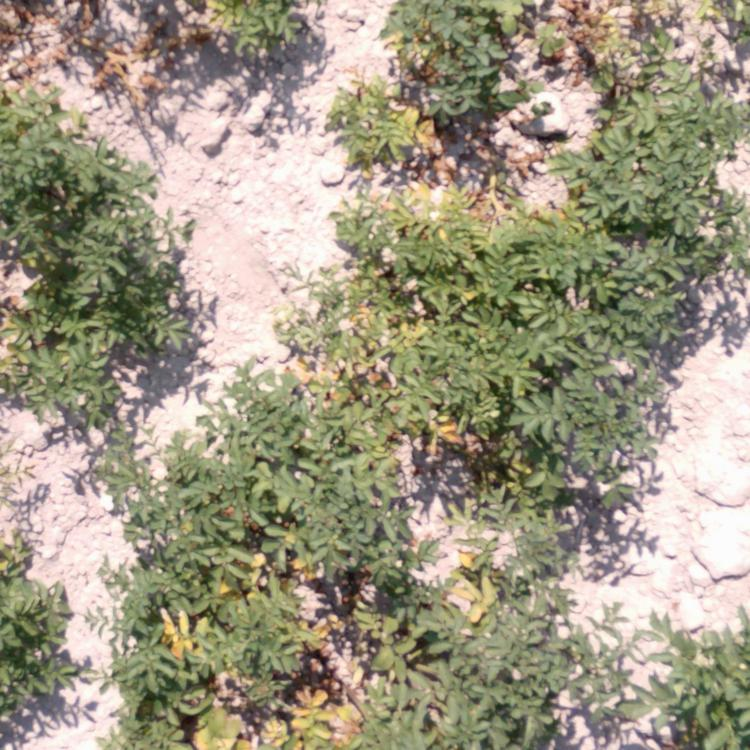healthy: (1, 123, 138, 429), (512, 239, 638, 477), (168, 386, 319, 527), (372, 639, 578, 741), (588, 87, 748, 217), (646, 624, 746, 744), (399, 1, 499, 106), (1, 557, 64, 722)
stressed: (122, 542, 333, 739), (314, 255, 481, 442), (356, 110, 569, 233), (119, 1, 301, 71), (362, 554, 507, 627), (525, 1, 673, 64)
